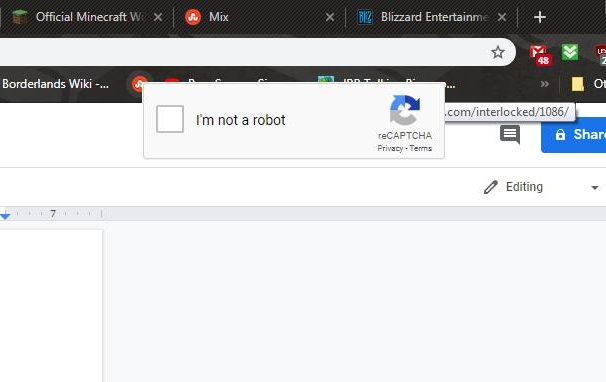captcha: (156, 105, 291, 132)
